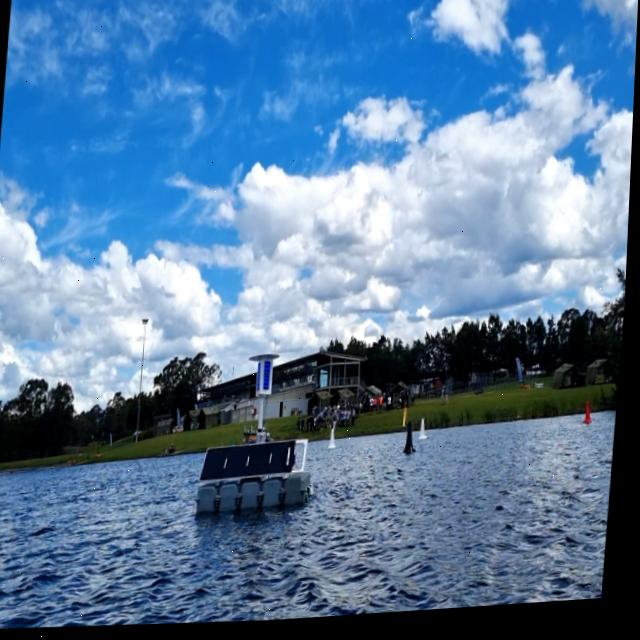led: (259, 362, 276, 398), (264, 362, 277, 397), (259, 363, 265, 397)
